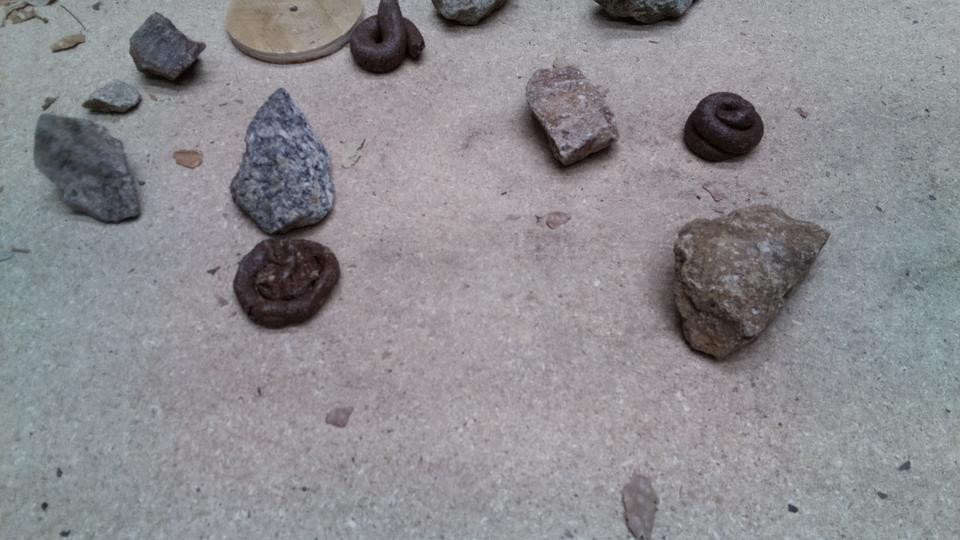poop: (299, 32, 382, 126)
